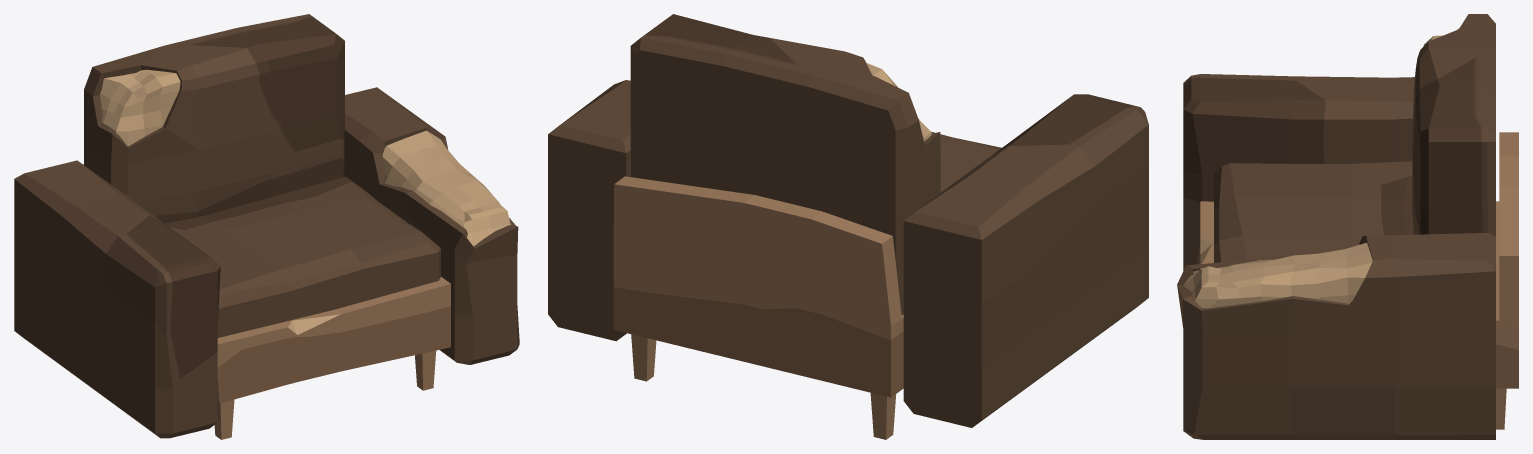
File: SM_Sofa_B.gltf
The picture shows the model from 3 angles, left to right: view 1: azimuth 30°, elevation 25°; view 2: azimuth 150°, elevation 25°; view 3: azimuth 270°, elevation 25°; orthographic projection. The views are drawn at different scales.
Visible parts, largest first — view 1: SM_Sofa_B; view 2: SM_Sofa_B; view 3: SM_Sofa_B.
Boxes of the visible parts, x1,y1,x2,y2 form: SM_Sofa_B: (14, 14, 519, 439); SM_Sofa_B: (548, 14, 1148, 439); SM_Sofa_B: (1177, 14, 1518, 439).
Bounding box in the file's own units: 1.72 × 1.26 × 1.27.
Materials: 1 (1 with a texture image).
